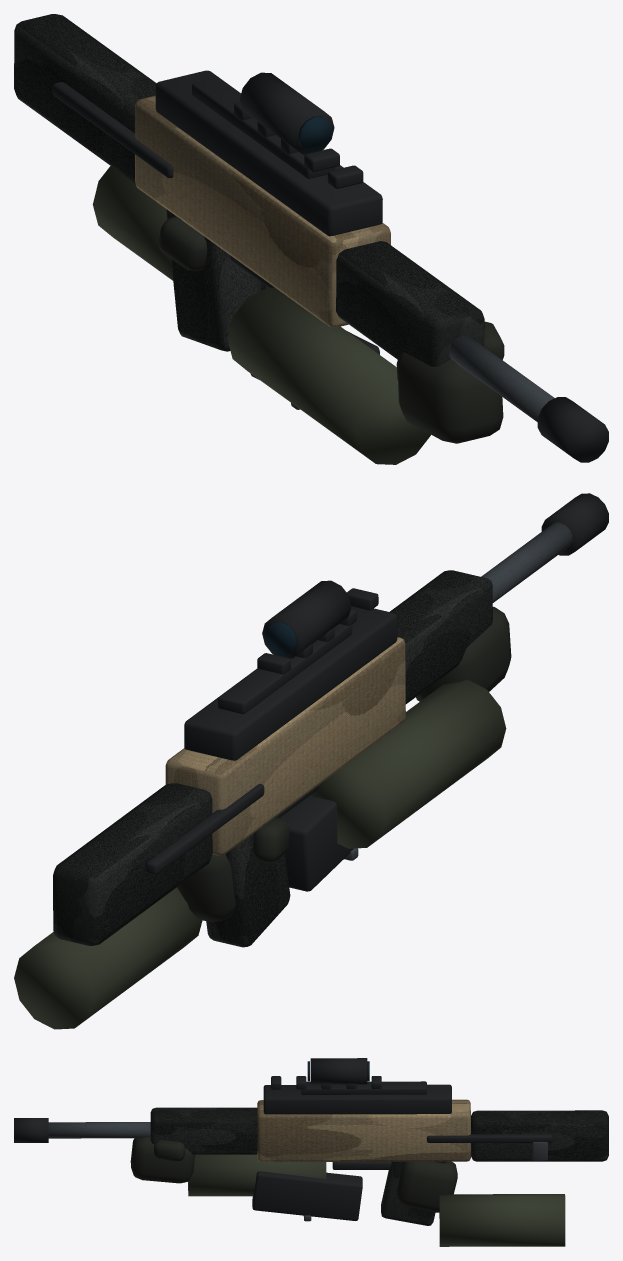
The model's file is weapon_ump.glb.
The picture shows the model from 3 angles, top to bottom: view 1: azimuth 30°, elevation 25°; view 2: azimuth 150°, elevation 25°; view 3: azimuth 270°, elevation 25°; orthographic projection. The views are drawn at different scales.
Parts seen in each view (by area): view 1: WeaponMesh; view 2: WeaponMesh; view 3: WeaponMesh.
Boxes of the visible parts, x1,y1,x2,y2 form: WeaponMesh: (14, 14, 608, 464); WeaponMesh: (14, 493, 608, 1029); WeaponMesh: (14, 1058, 608, 1246).
Bounding box in the file's own units: 0.1707 × 0.2984 × 0.9477.
7 materials, 3 textured.
